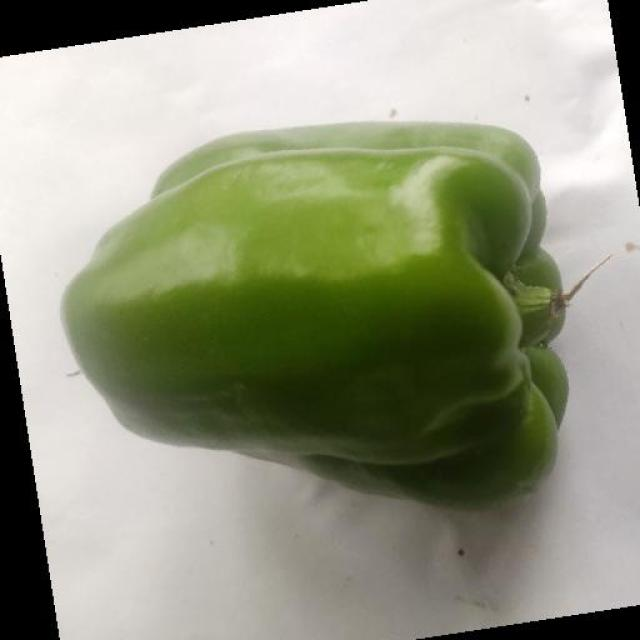Fresh_Capsicum: (85, 129, 570, 503)
